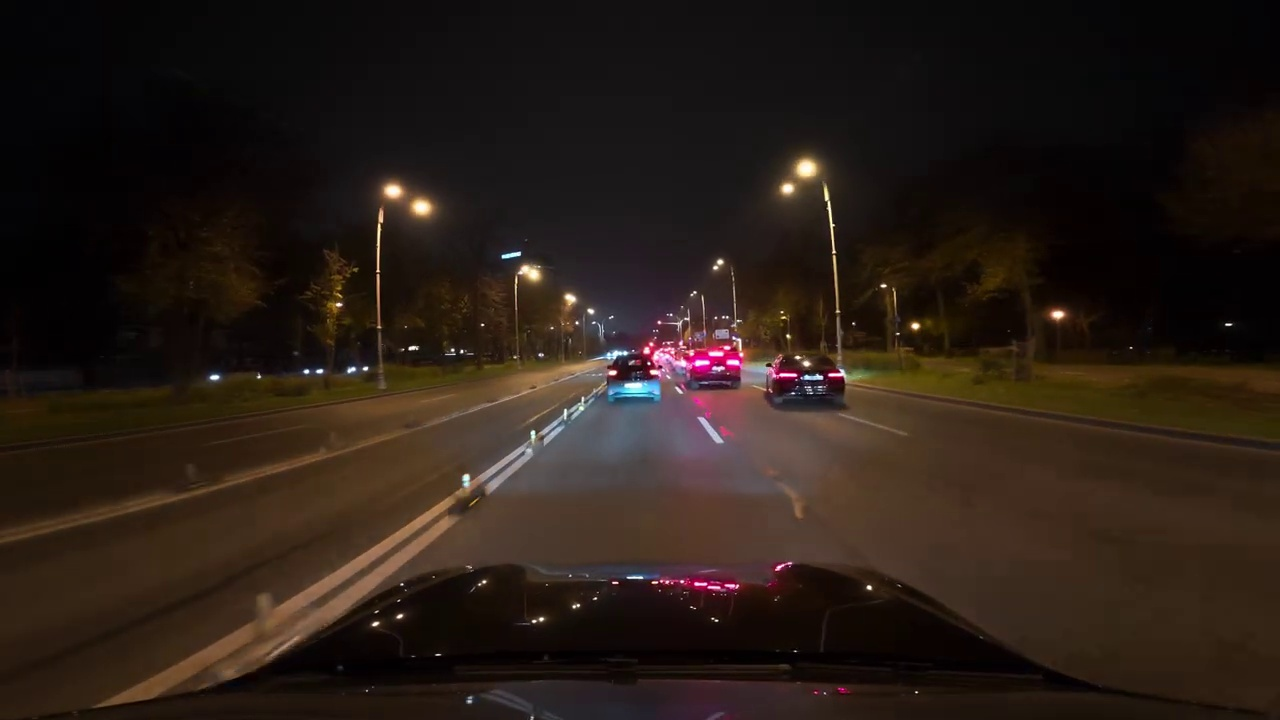acesa: (384, 179, 423, 221), (786, 155, 822, 196), (403, 184, 437, 221), (791, 156, 820, 184), (409, 194, 436, 221), (381, 179, 407, 205), (519, 264, 545, 287), (709, 255, 728, 276), (561, 292, 580, 313)
